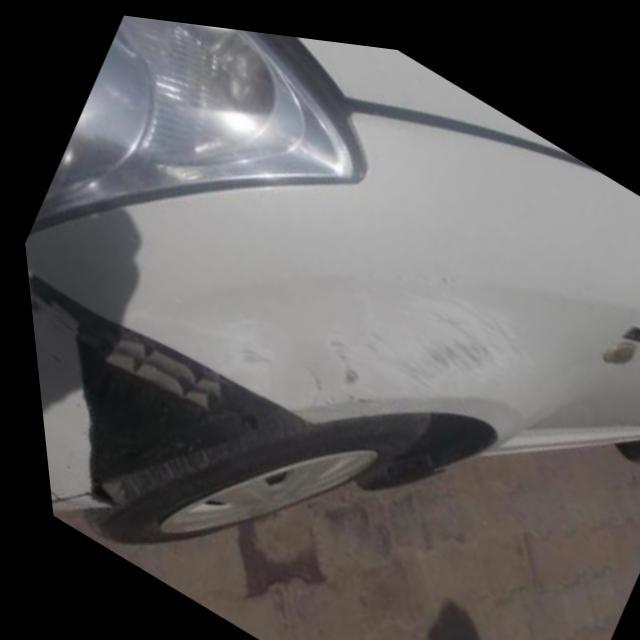crack: (40, 484, 79, 511)
dislocated part: (22, 269, 314, 510)
rub: (356, 281, 523, 379)
scratch: (213, 312, 270, 372), (319, 327, 357, 379), (299, 356, 320, 395), (335, 383, 370, 400)
